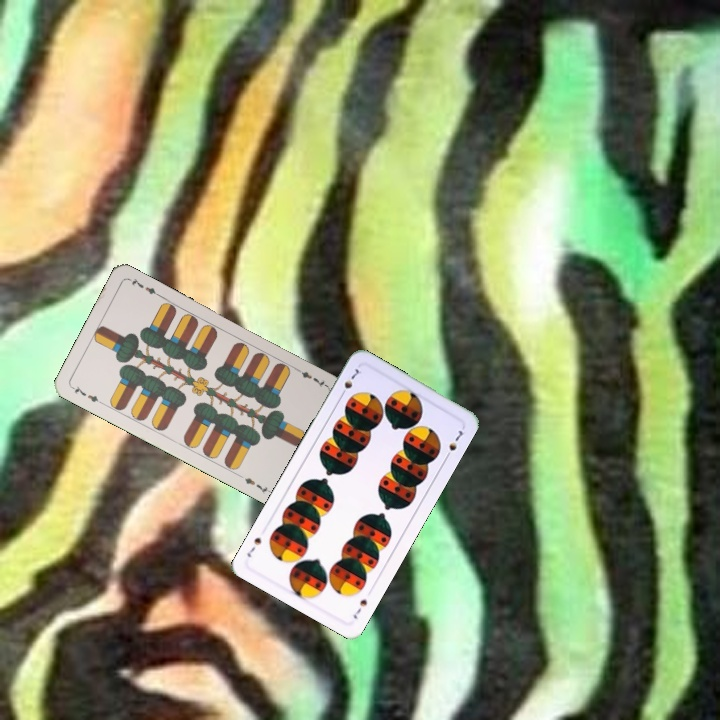E7: (291, 364, 328, 390), (67, 382, 105, 406)
S7: (336, 365, 364, 400), (349, 595, 370, 622)
